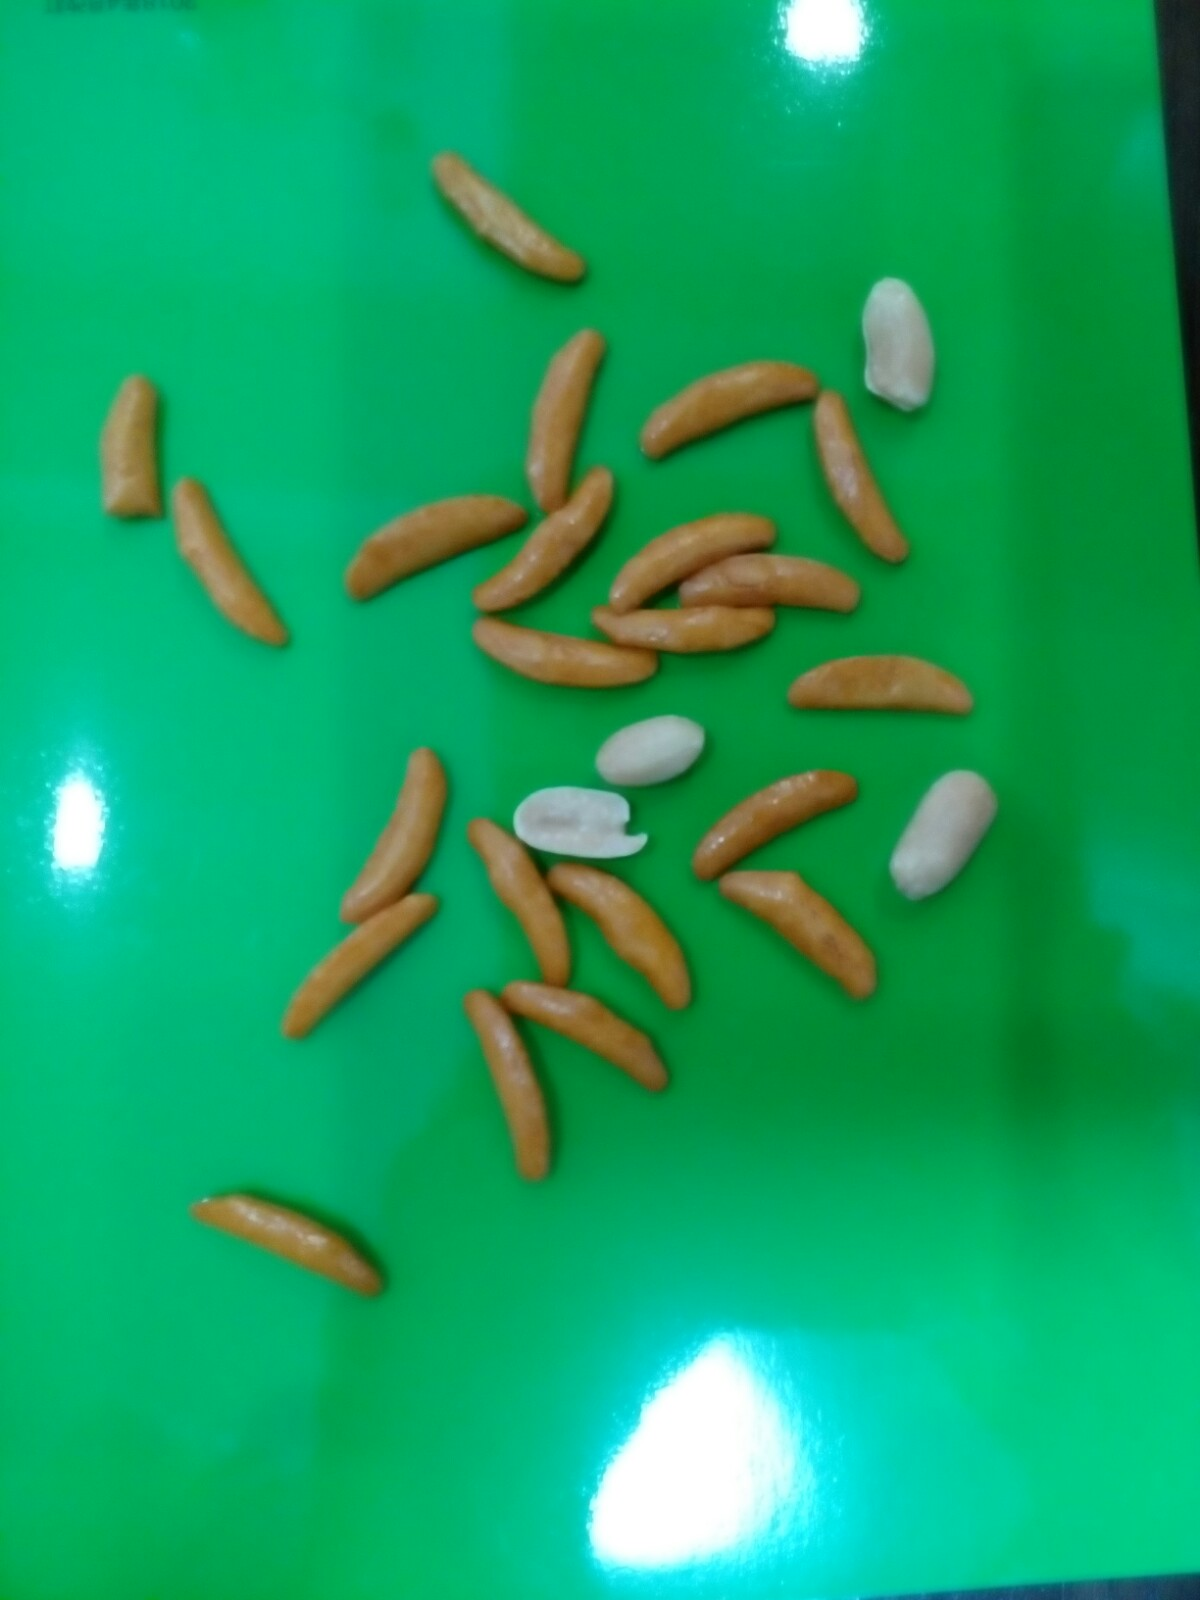peanut: (886, 763, 1005, 908), (841, 265, 948, 421), (499, 772, 658, 871), (584, 708, 713, 791)
